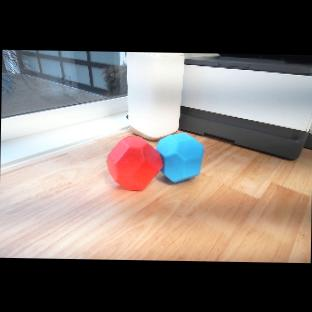V5_BLUE: (157, 132, 205, 184)
V5_RED: (105, 135, 163, 192)
pieces: (103, 129, 207, 196)
